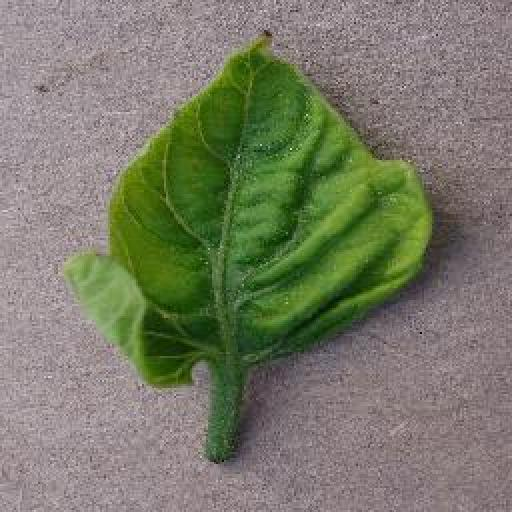disease_tomato: (70, 30, 438, 394)
